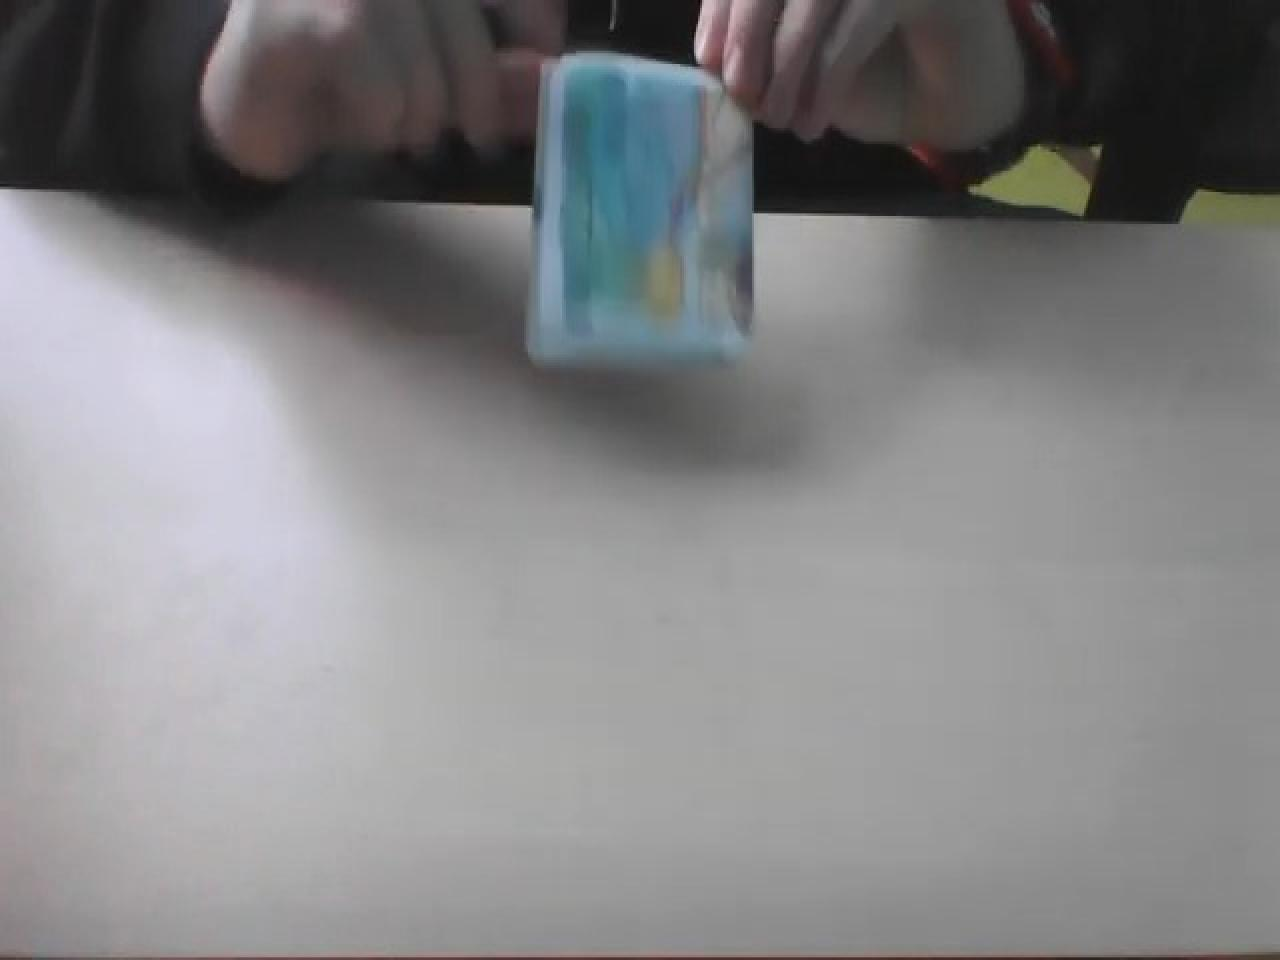100leva: (522, 45, 756, 373)
